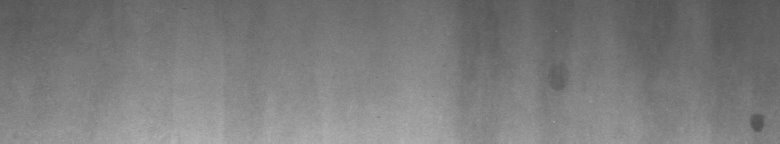fi: (747, 108, 768, 136)
